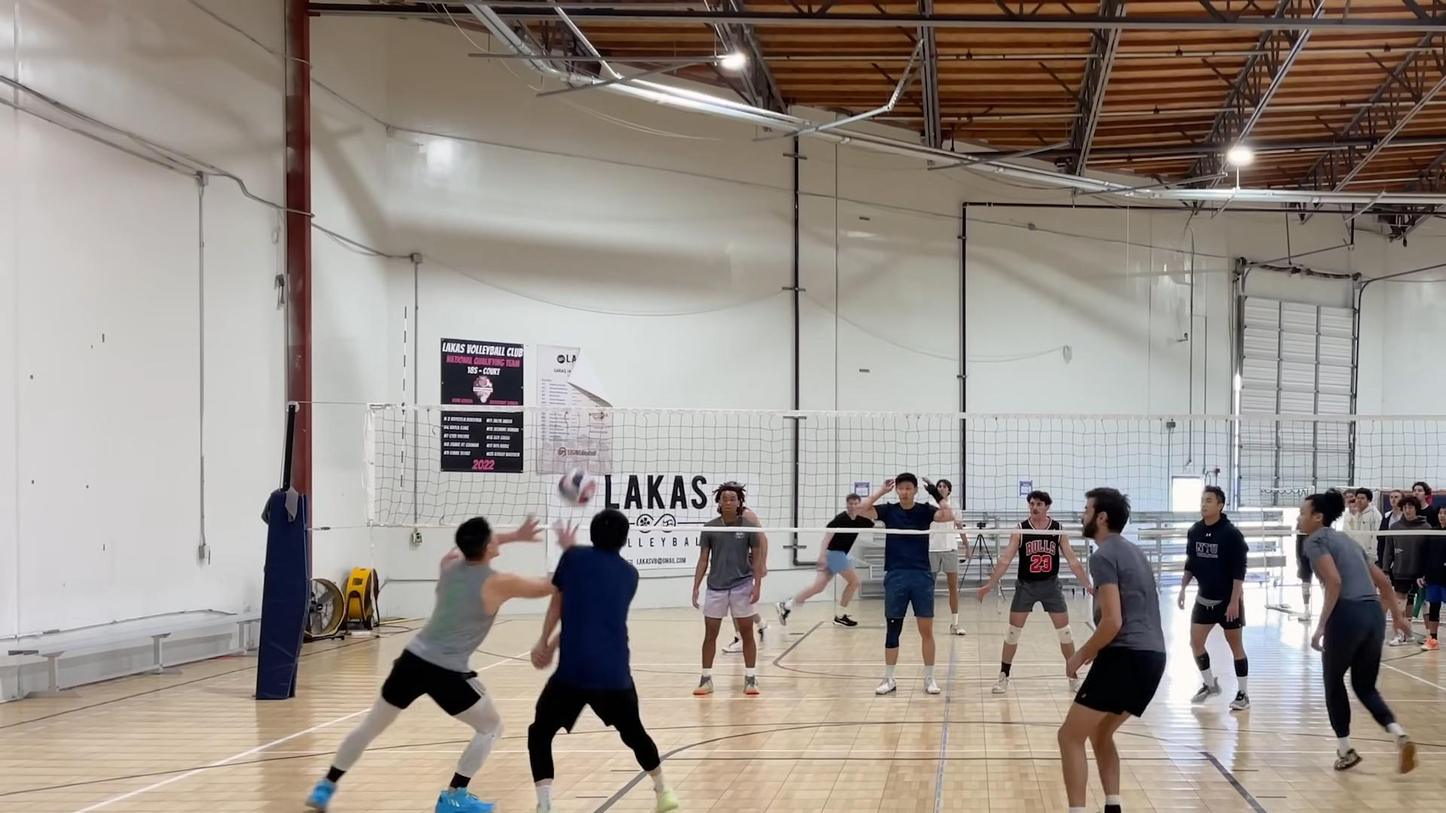ricezione: (300, 499, 577, 813), (523, 508, 686, 808)
